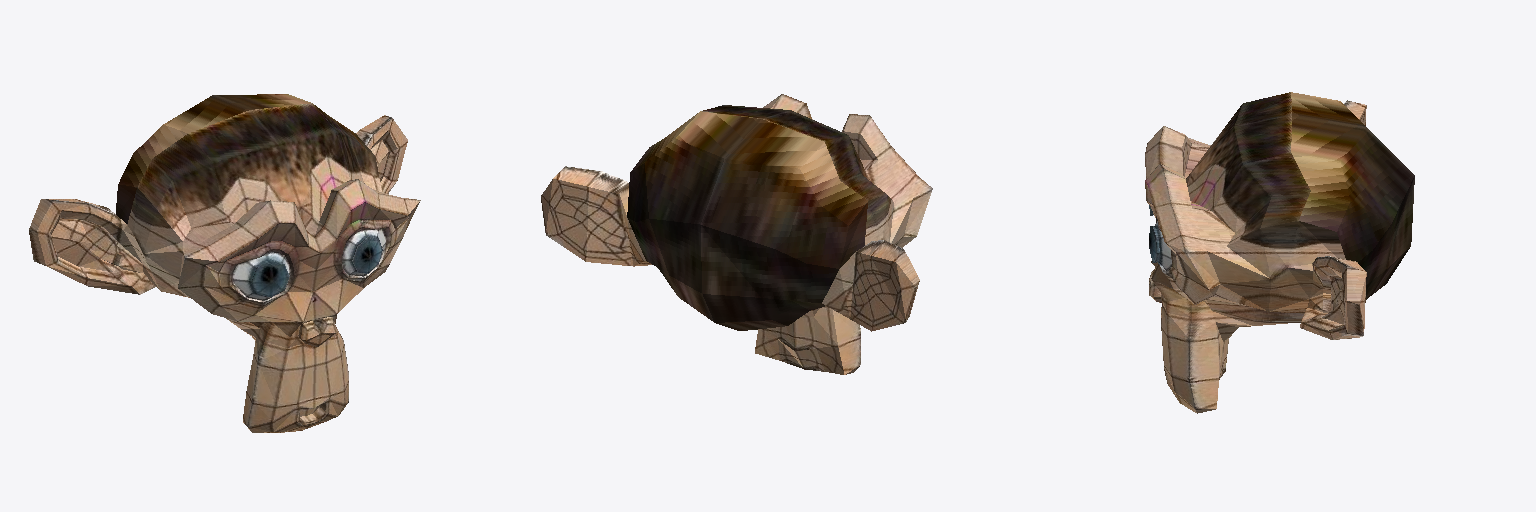
The picture shows the model from 3 angles: view 1: azimuth 30°, elevation 25°; view 2: azimuth 150°, elevation 25°; view 3: azimuth 270°, elevation 25°; orthographic projection.
Visible parts, largest first — view 1: Suzanne; view 2: Suzanne; view 3: Suzanne.
Boxes of the visible parts, <box> form: Suzanne: <box>29,94,420,432</box>; Suzanne: <box>541,94,932,374</box>; Suzanne: <box>1145,92,1414,413</box>.
Bounding box in the file's own units: 2.73 × 1.97 × 1.7.
1 materials, 1 textured.